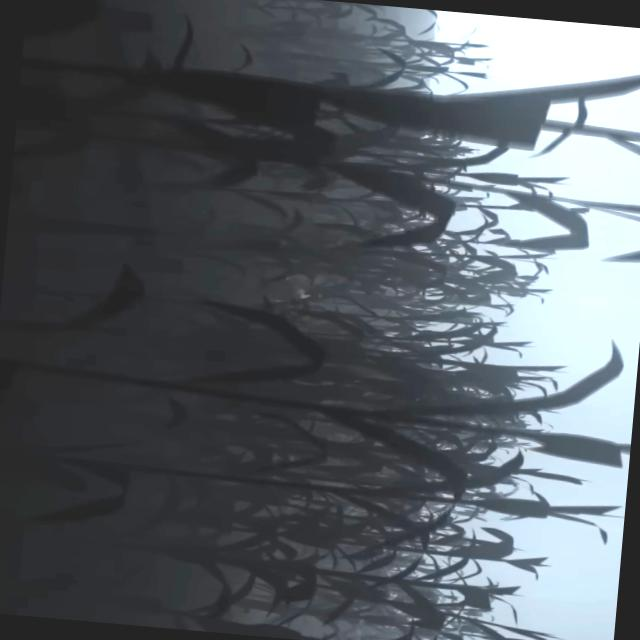boy: (274, 274, 322, 304)
